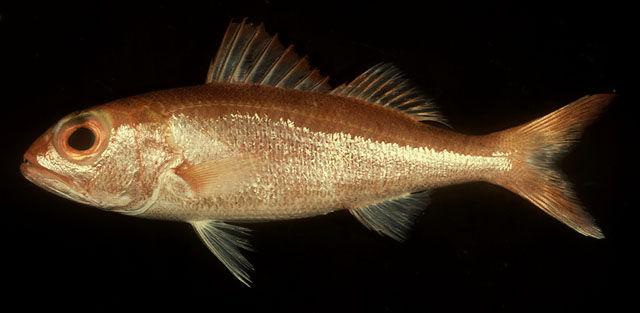fish: (19, 17, 613, 288)
